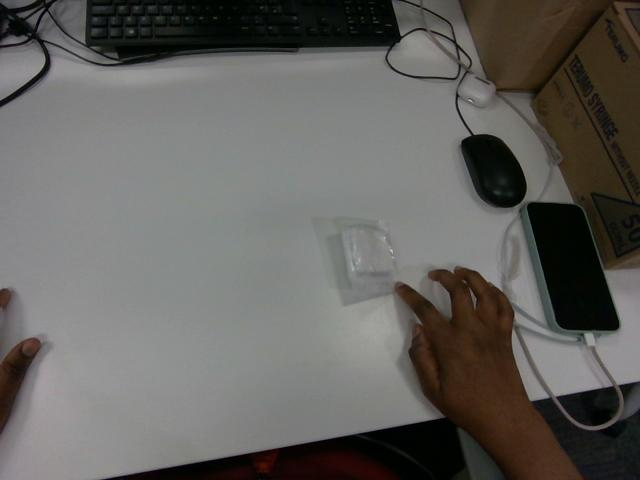gauze: (338, 219, 395, 293)
